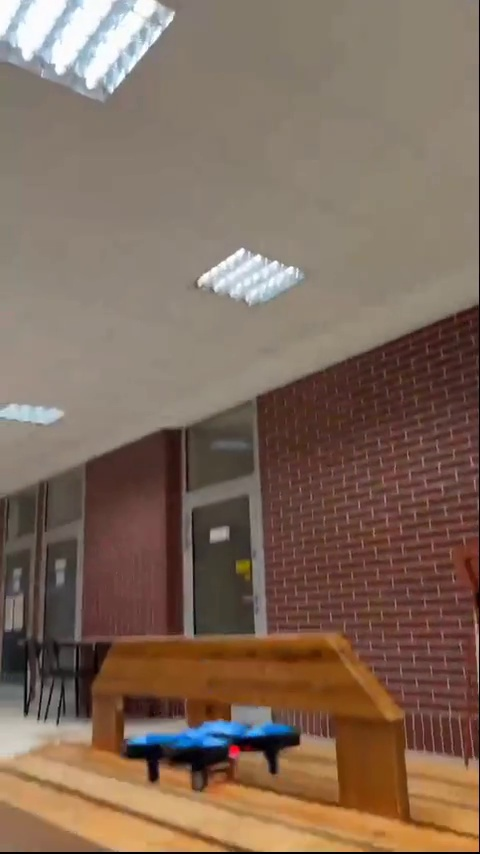drone: (123, 719, 300, 790)
